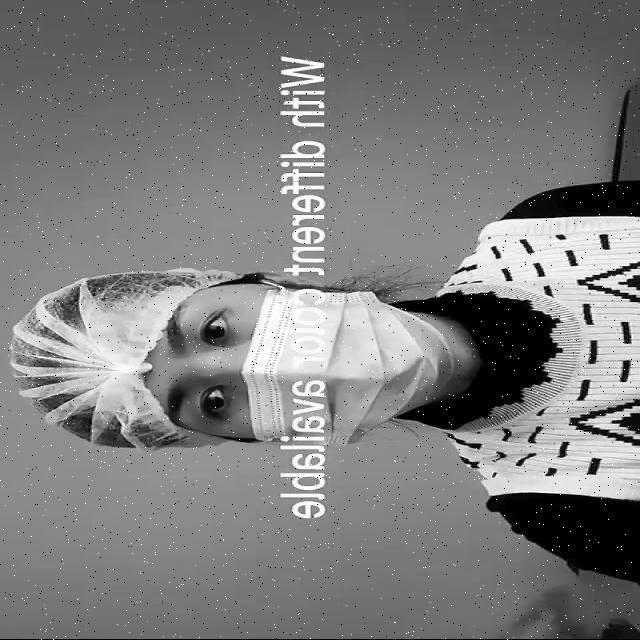gloves: (13, 268, 157, 458)
